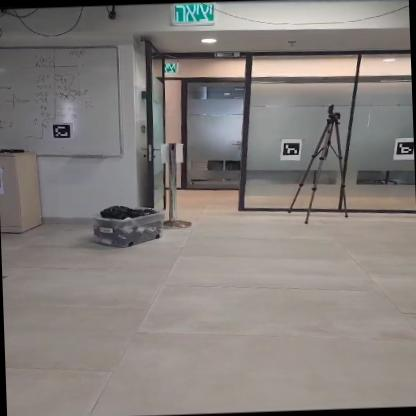open: (134, 70, 256, 219)
